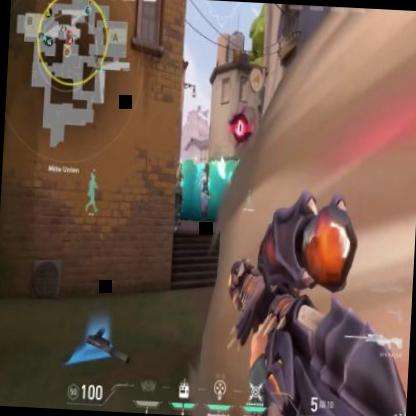enemy: (168, 160, 186, 230), (196, 160, 212, 230)
enemy_head: (202, 163, 210, 175), (176, 161, 182, 170)
